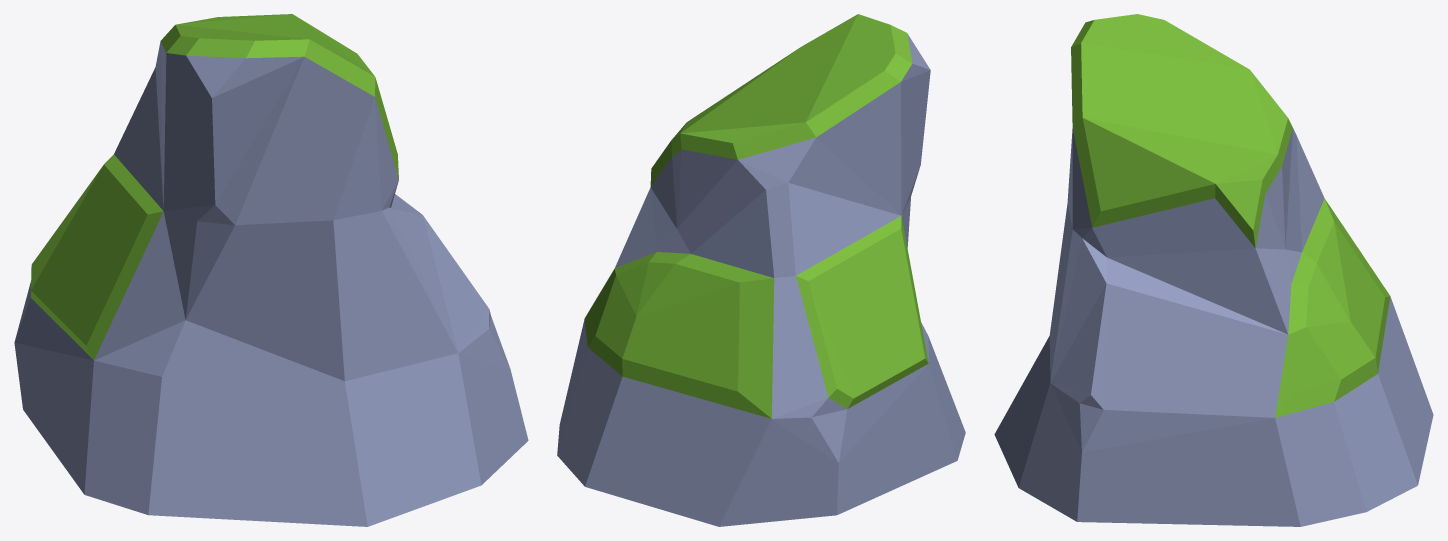
The model's file is Rock_38_1.fbx.
3 views of the same model, side by side, from view 1: azimuth 30°, elevation 25°; view 2: azimuth 150°, elevation 25°; view 3: azimuth 270°, elevation 25° (orthographic). The views are drawn at different scales.
Parts seen in each view (by area): view 1: Rock_38_1; view 2: Rock_38_1; view 3: Rock_38_1.
Boxes of the visible parts, <box> form: Rock_38_1: <box>14,14,528,526</box>; Rock_38_1: <box>557,14,965,526</box>; Rock_38_1: <box>994,14,1433,526</box>.
Bounding box in the file's own units: 2.23 × 2.43 × 2.46.
